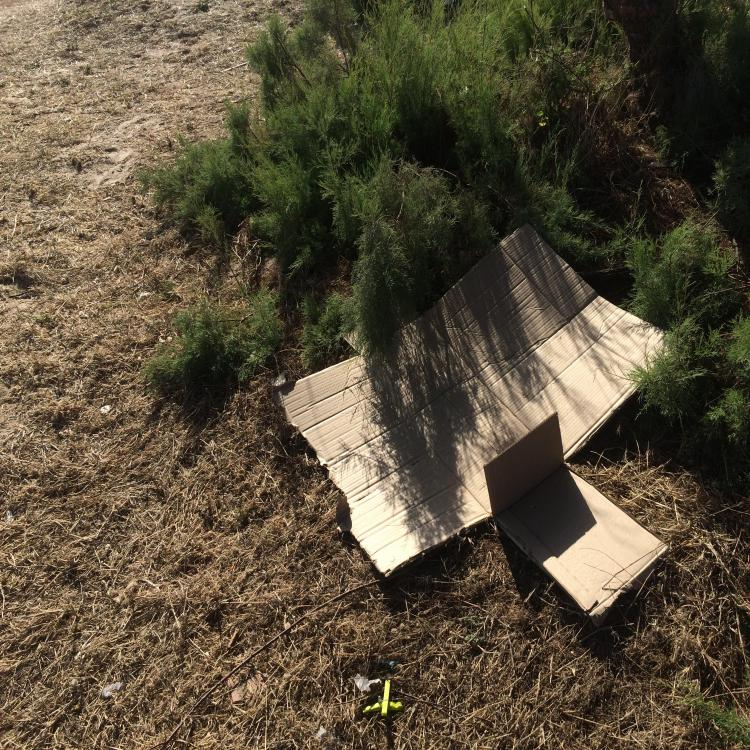Corrugated carton: (271, 223, 670, 627)
Unlabeled litter: (362, 680, 403, 716), (354, 673, 381, 691), (102, 682, 123, 696)
